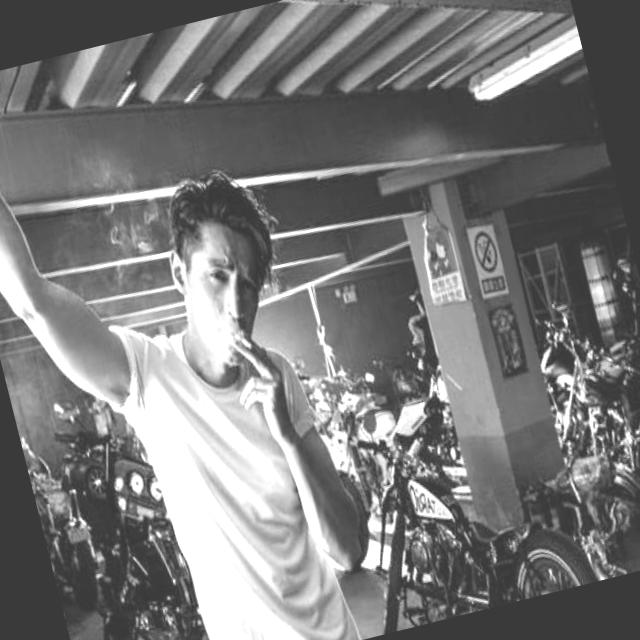smoke: (236, 330, 256, 359)
